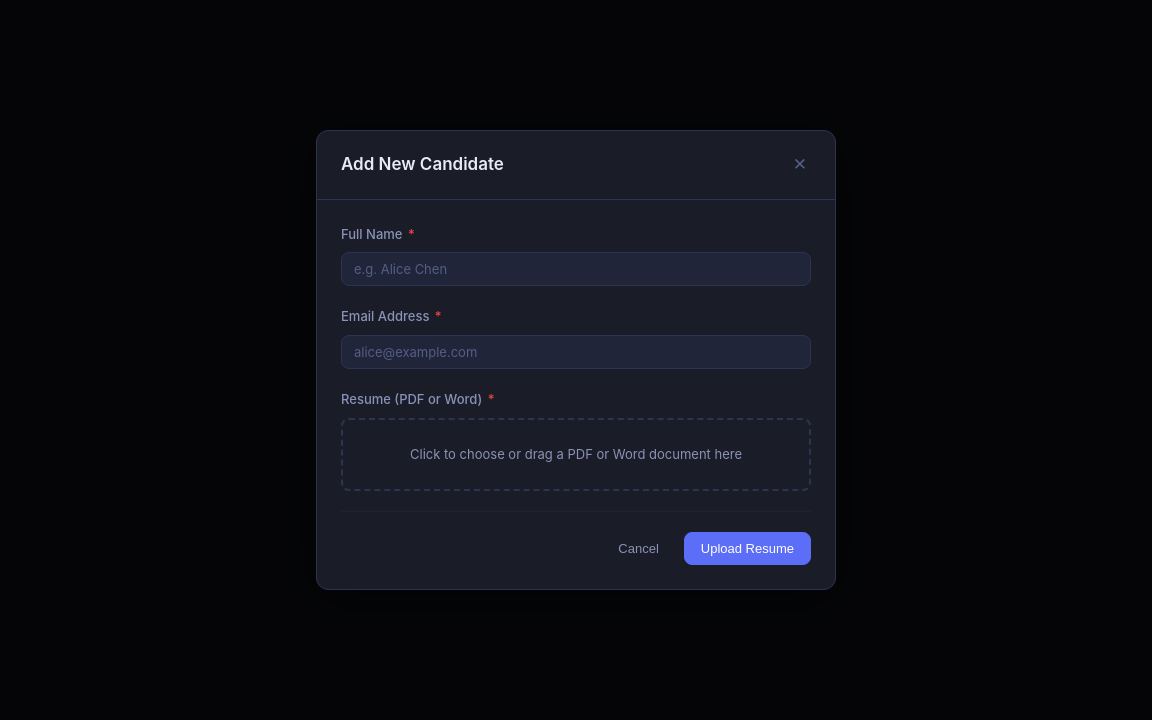
it: CandidateIngestionModal › inline errors shown when submitted empty
Step 1. Click the button "Upload Resume" → (747, 548), box [684,532,811,565]
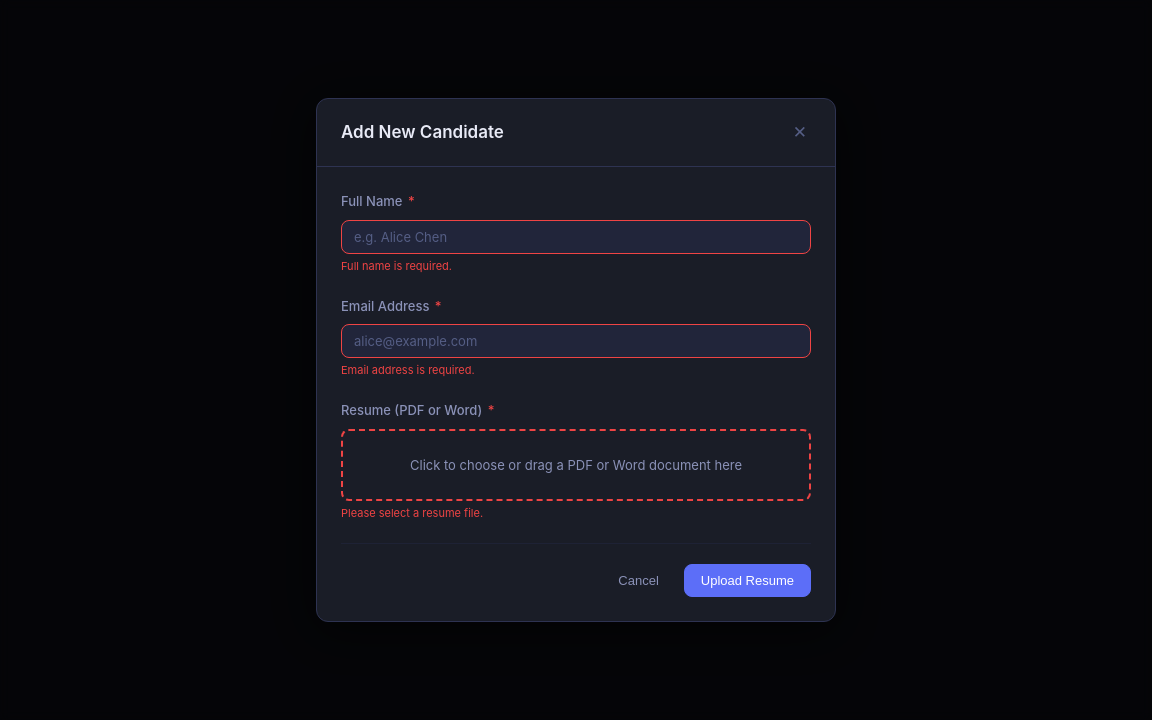
Result: the text "Full name is required." is shown at [341,259,452,273]
Result: the text "Email address is required." is shown at [341,363,475,377]
Result: the text "Please select a resume file." is shown at [341,506,483,520]
